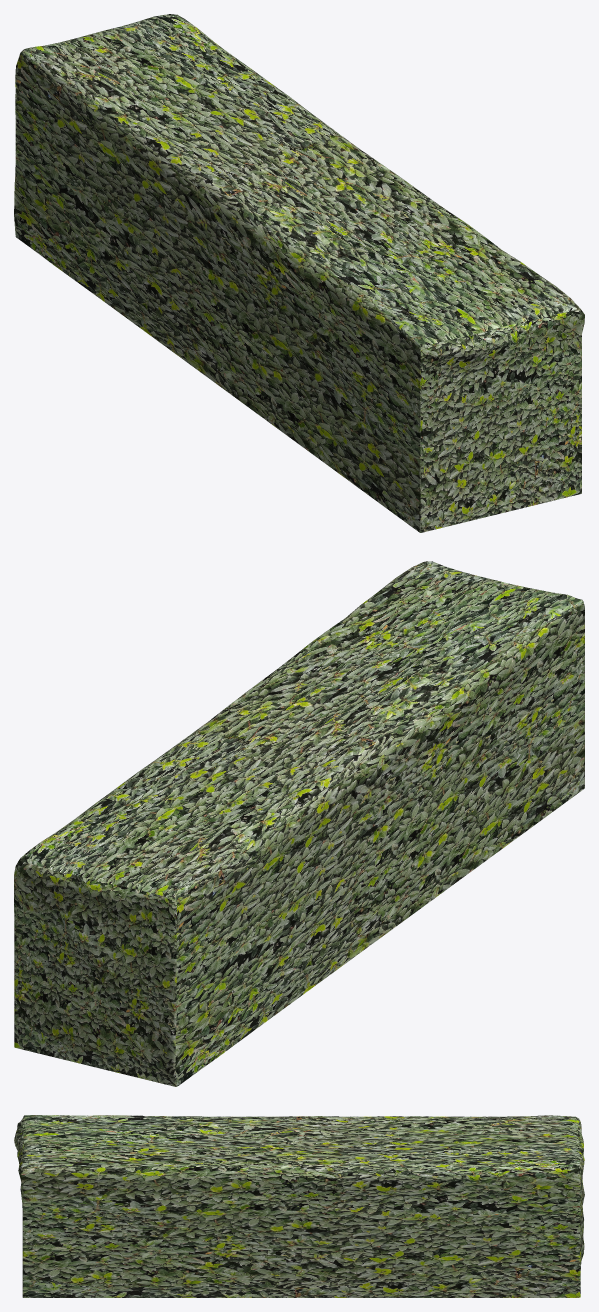
The model's file is HedgeDetails.fbx.
The picture shows the model from 3 angles, top to bottom: view 1: azimuth 30°, elevation 25°; view 2: azimuth 150°, elevation 25°; view 3: azimuth 270°, elevation 25°; orthographic projection. The views are drawn at different scales.
Visible parts, largest first — view 1: hedgePiece; view 2: hedgePiece; view 3: hedgePiece.
Part boxes in pixels (<box>): hedgePiece: <box>14,14,584,532</box>; hedgePiece: <box>14,561,584,1086</box>; hedgePiece: <box>14,1115,584,1297</box>.
Bounding box in the file's own units: 238 × 258 × 1000.
1 material, 1 textured.
